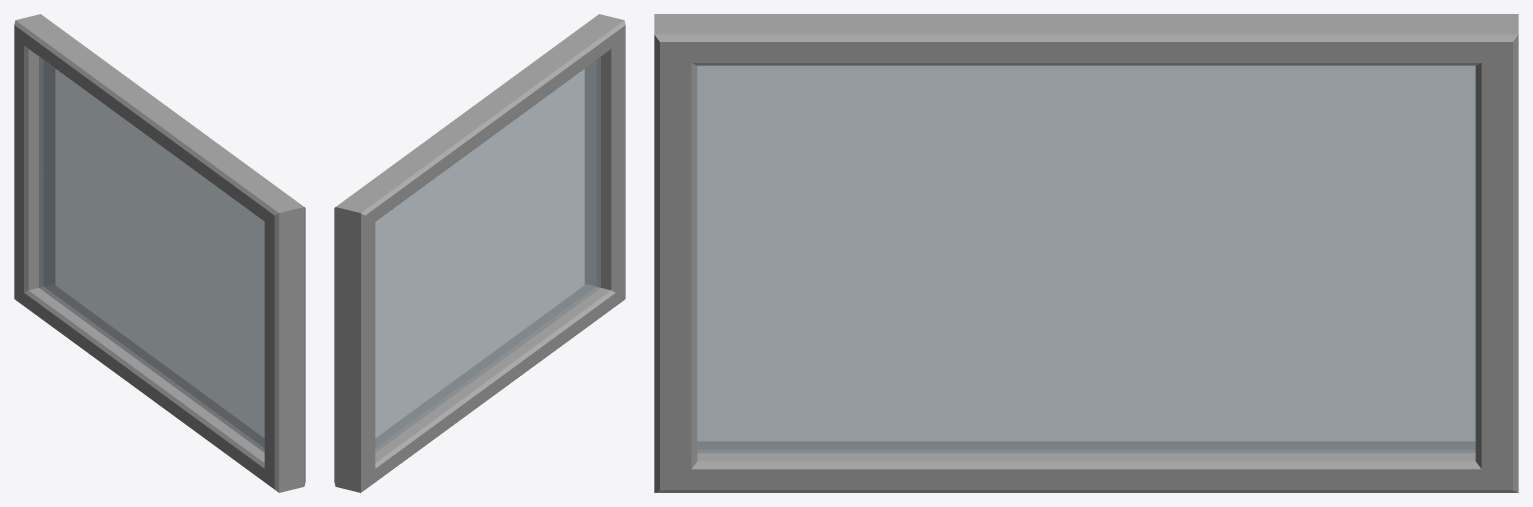
The model's file is raam.fbx.
3 renders of one model, left to right at view 1: azimuth 30°, elevation 25°; view 2: azimuth 150°, elevation 25°; view 3: azimuth 270°, elevation 25°, orthographic. The views are drawn at different scales.
Visible parts, largest first — view 1: pCube144, pCube143; view 2: pCube144, pCube143; view 3: pCube144, pCube143.
Boxes of the visible parts, x1,y1,x2,y2 form: pCube144: (39,57,264,452); pCube143: (14,14,305,492); pCube144: (375,57,600,452); pCube143: (334,14,625,492); pCube144: (697,65,1475,453); pCube143: (654,14,1518,492).
Size of the model in its own units: 0.2038 by 1.75 by 2.98.
